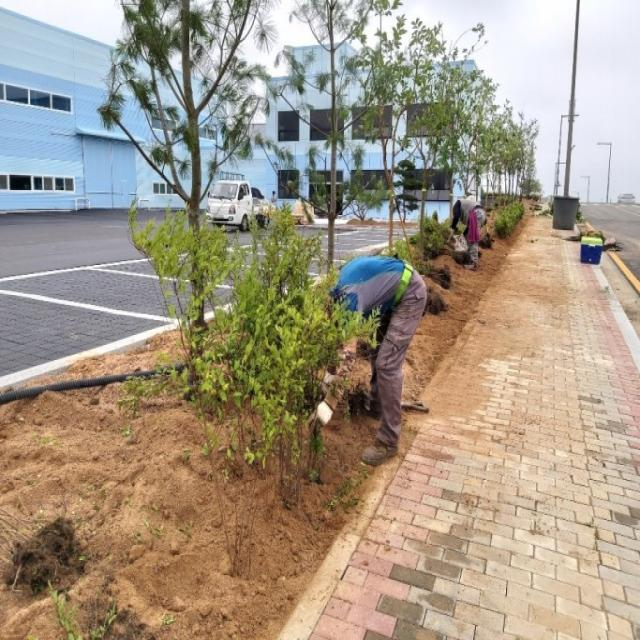plant: (125, 196, 383, 579), (97, 0, 262, 397), (362, 12, 541, 258), (262, 0, 391, 273)
